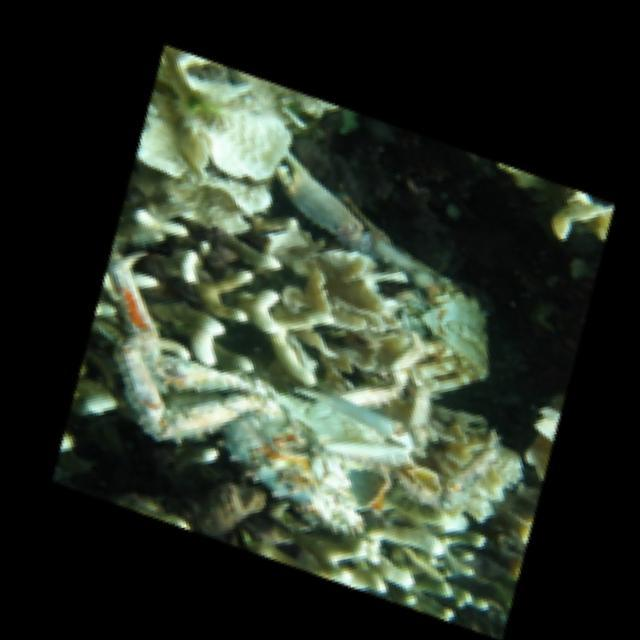Dead Coral: (112, 182, 428, 436), (374, 392, 544, 548)
